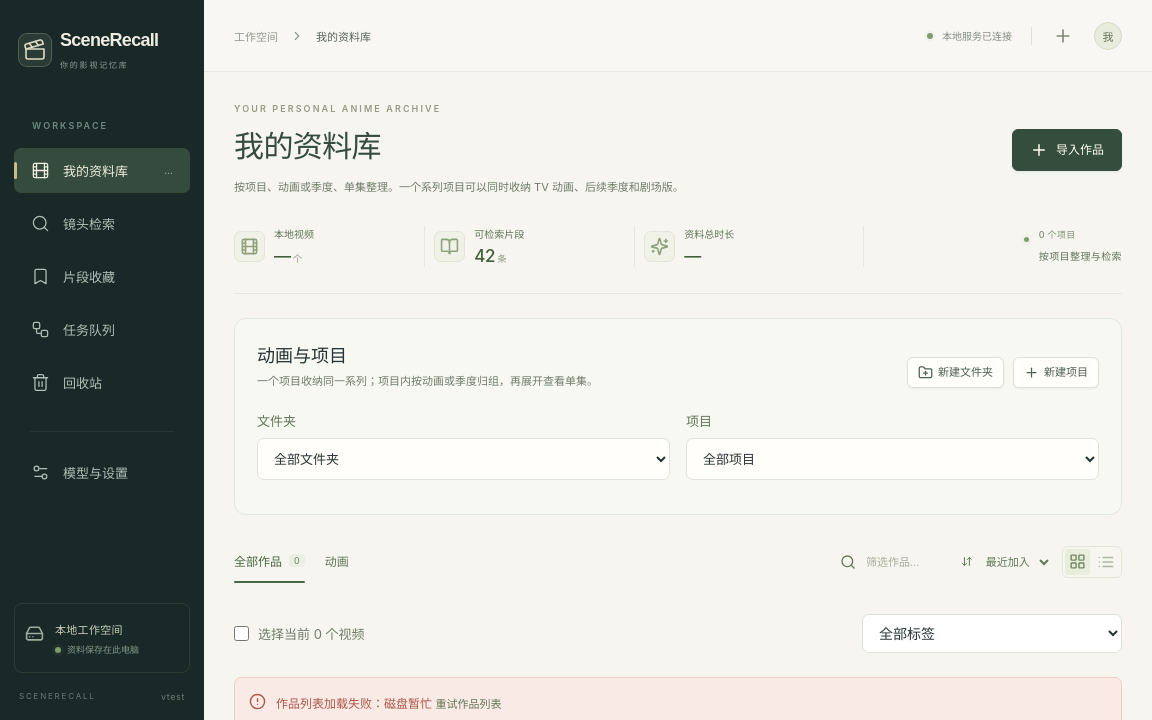
Test case: Progressive startup › never represents an initial video load failure as an empty library and allows retry
The image size is (1152, 720).
Check: the text "你的第一部作品，从这里开始" is not shown
Click the button "重试作品列表".
click(468, 705)  # box [435,690,501,719]
(page scrolled)
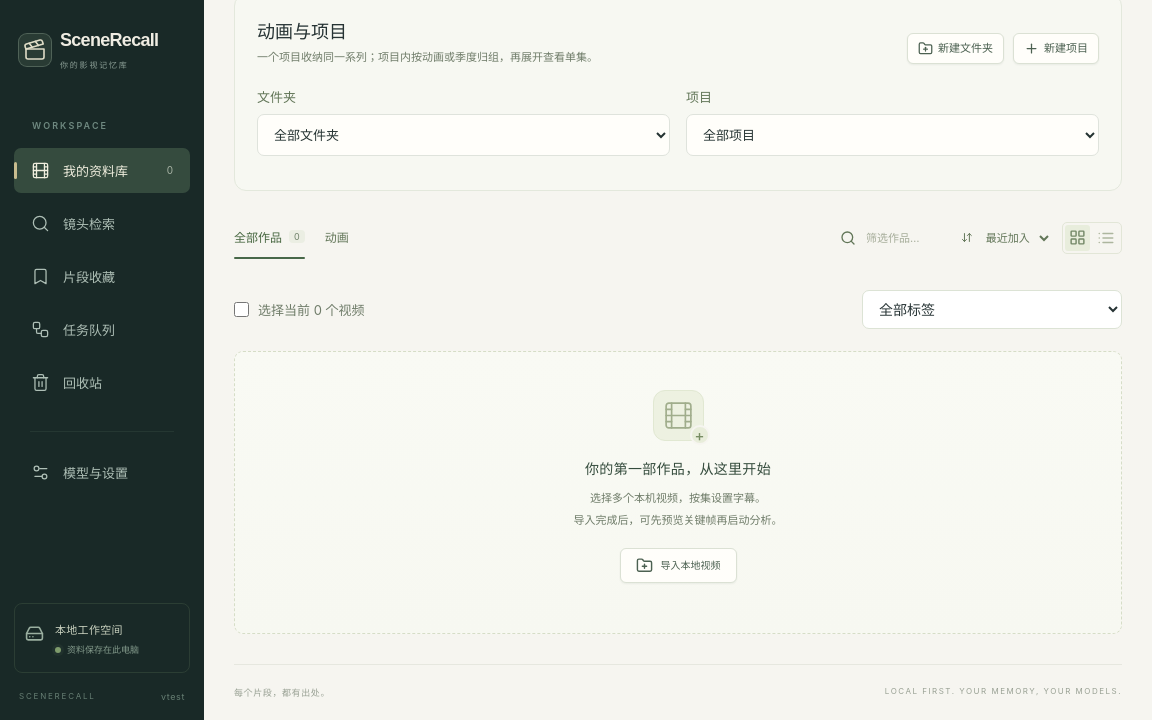
Check: the heading "你的第一部作品，从这里开始" is shown, box [585,460,771,478]
